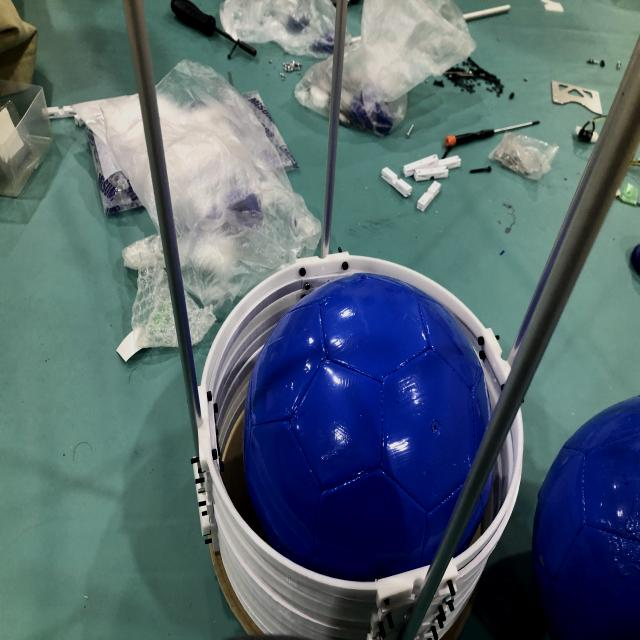blue_ball: (244, 274, 494, 570), (533, 392, 640, 640)
